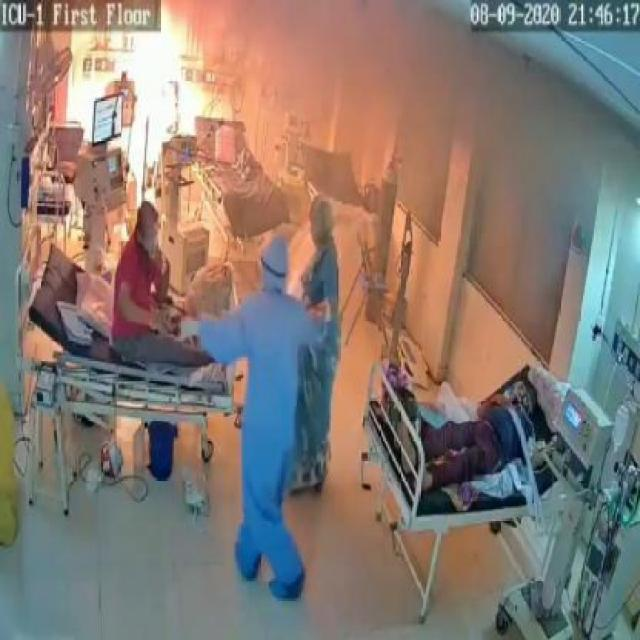fire: (93, 8, 215, 164)
smoke: (230, 8, 638, 201)
